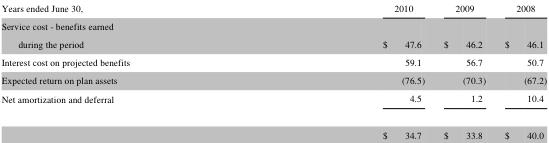table: (0, 0, 546, 140)
table column: (0, 0, 255, 140), (255, 0, 433, 140), (433, 0, 494, 140), (494, 0, 546, 140)
table column header: (0, 0, 546, 16)
table projected row header: (0, 16, 546, 34)
table row: (0, 88, 546, 116), (0, 116, 546, 140), (0, 16, 546, 34), (0, 34, 546, 52), (0, 52, 546, 70), (0, 70, 546, 88), (0, 0, 546, 16)
